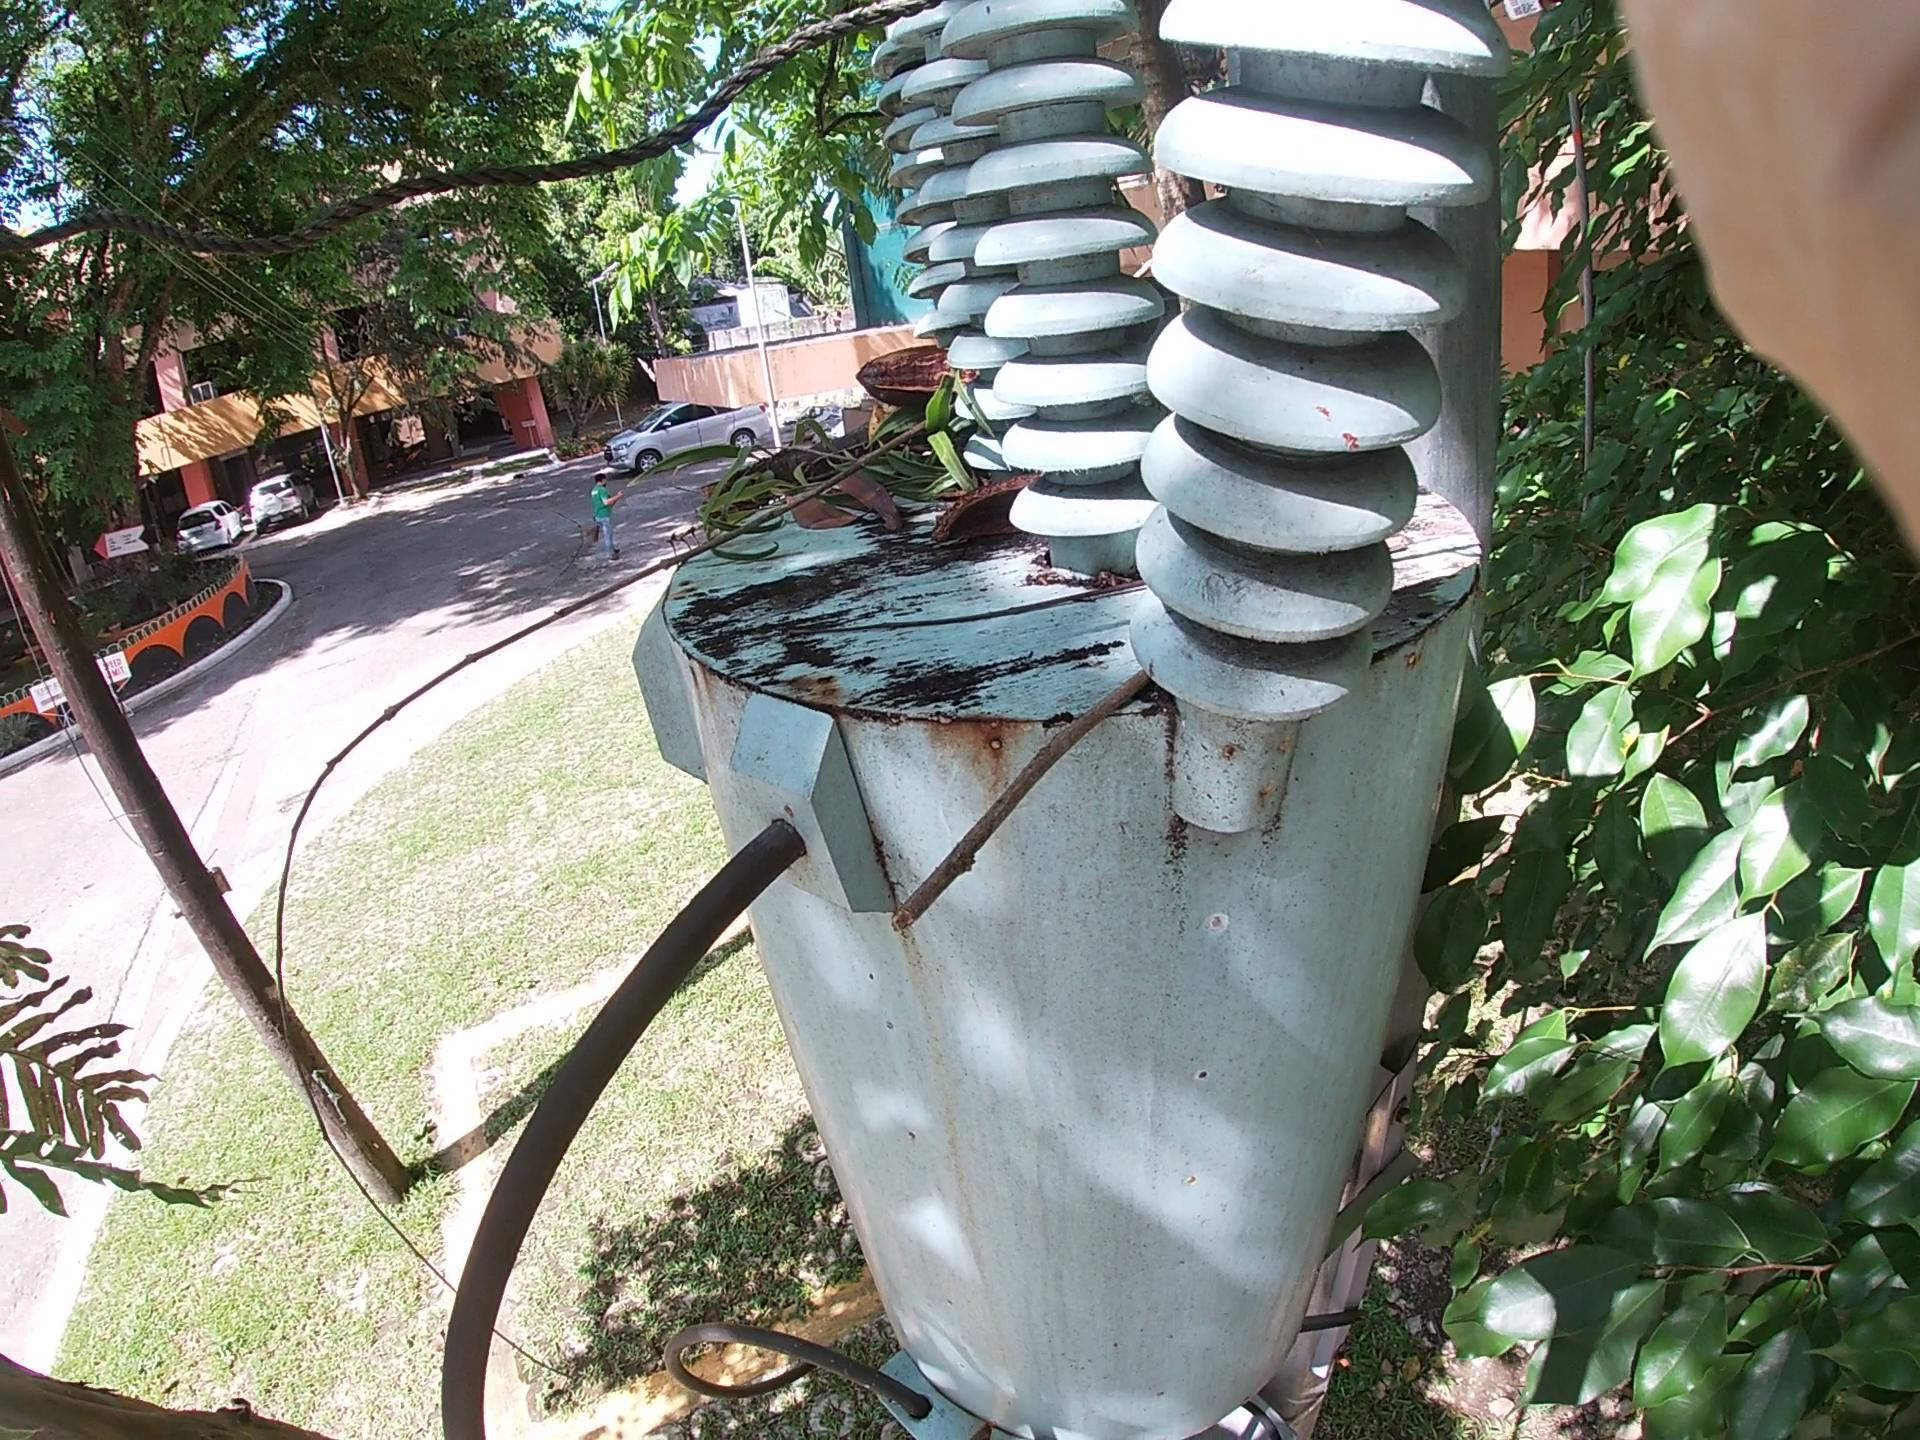branch with leaves: (688, 313, 1117, 564)
leaf: (807, 424, 887, 546)
mahogany fruit: (924, 470, 1129, 632), (828, 313, 992, 446)
tree branch: (245, 433, 872, 930), (868, 616, 1209, 942)
